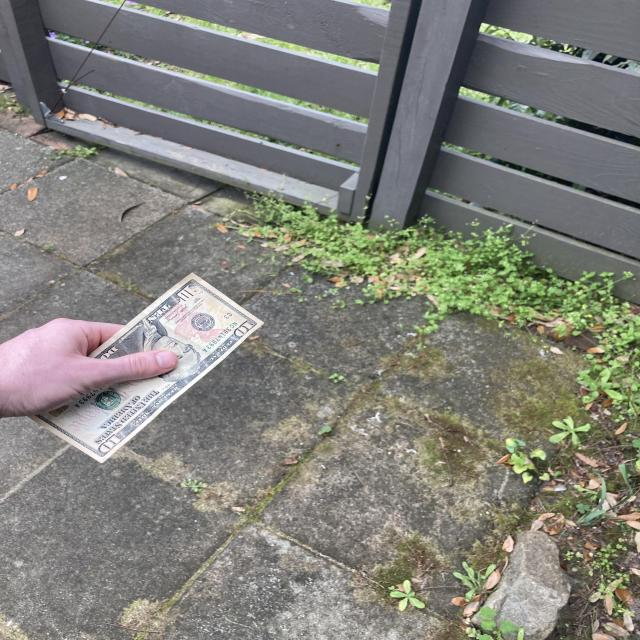ten: (21, 253, 266, 482)
